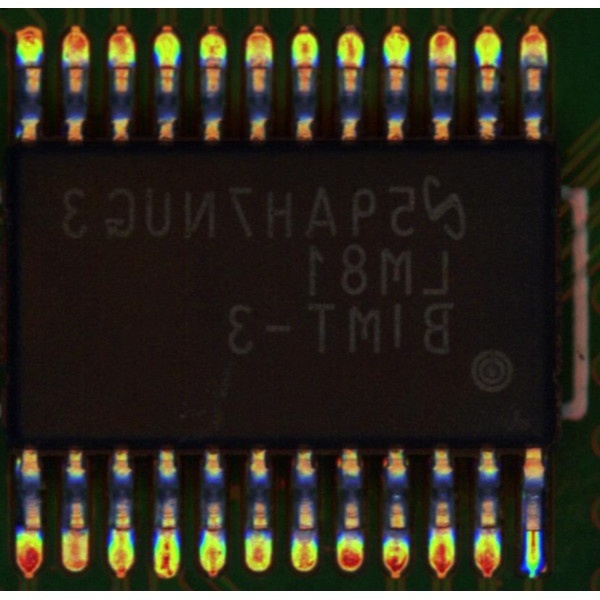Bad_podu: (160, 521, 175, 551), (115, 514, 128, 544), (342, 54, 357, 79), (433, 55, 450, 77), (72, 512, 83, 543), (205, 53, 221, 74), (297, 56, 313, 77), (249, 55, 266, 73), (528, 524, 540, 545)
